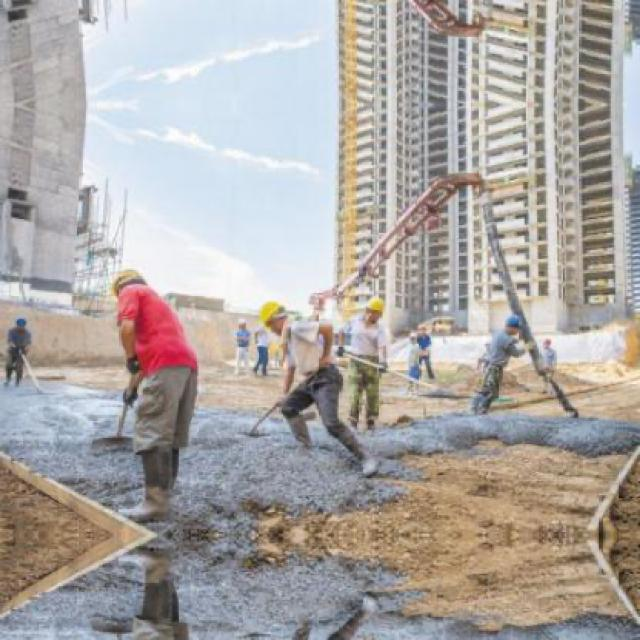helmet: (255, 296, 291, 338), (111, 267, 146, 307), (362, 294, 389, 322), (505, 310, 523, 339)
